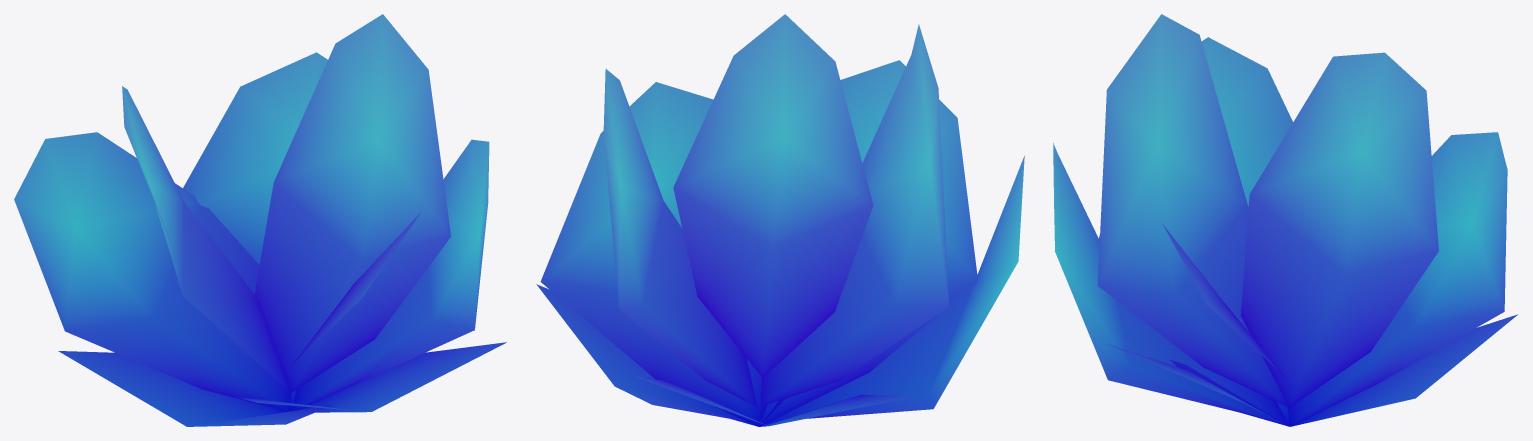
The model's file is SM_Env_Flower_02.glb.
3 views of the same model, side by side, from view 1: azimuth 30°, elevation 25°; view 2: azimuth 150°, elevation 25°; view 3: azimuth 270°, elevation 25° (orthographic). The views are drawn at different scales.
Parts seen in each view (by area): view 1: SM_Env_Flower_02_LOD0; view 2: SM_Env_Flower_02_LOD0; view 3: SM_Env_Flower_02_LOD0.
Part boxes in pixels (<box>): SM_Env_Flower_02_LOD0: <box>14,14,506,426</box>; SM_Env_Flower_02_LOD0: <box>536,14,1024,426</box>; SM_Env_Flower_02_LOD0: <box>1053,14,1517,426</box>.
Size of what is drawn, in the model's own units: 0.3312 by 0.2746 by 0.3147.
